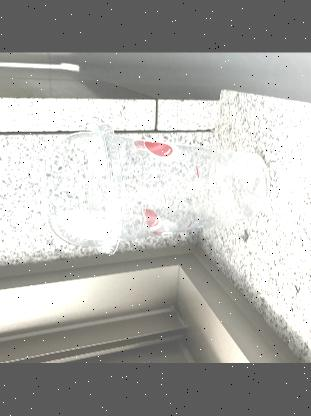Others: (40, 120, 272, 253), (40, 121, 122, 256)
